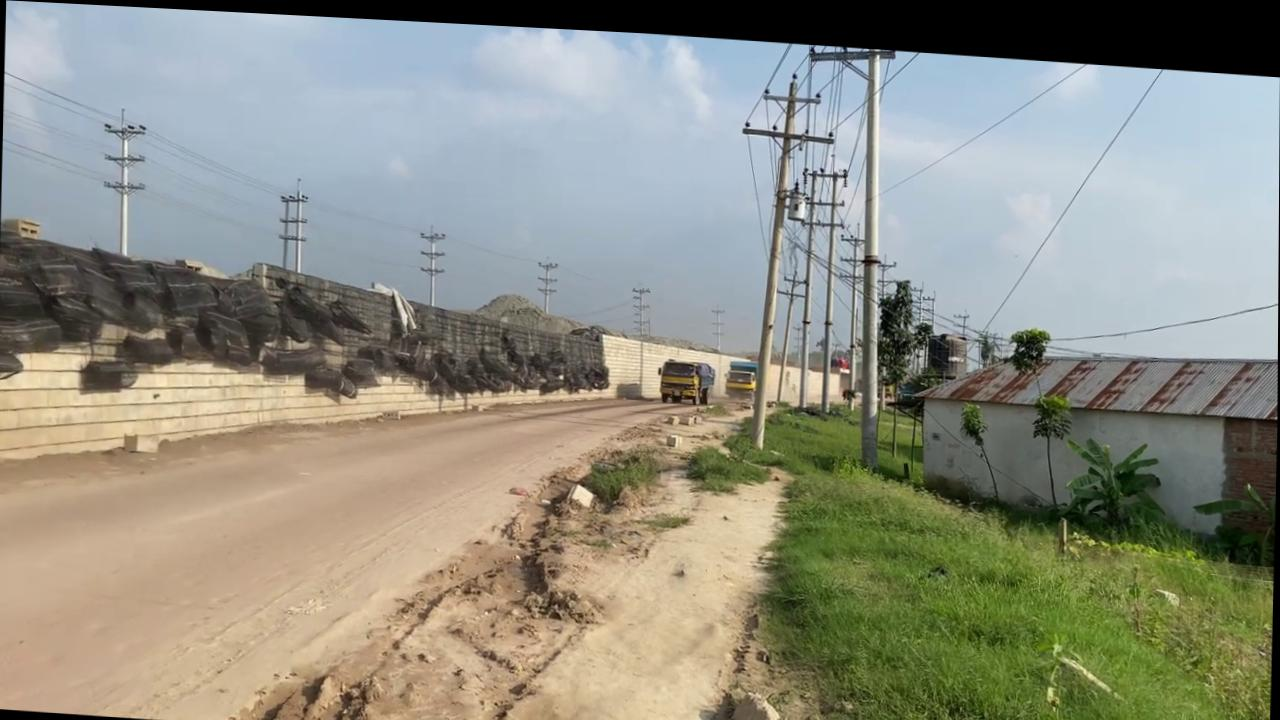Garbage: (0, 223, 616, 413)
Muddy road: (0, 341, 758, 720)
Obstacle: (565, 475, 595, 504)
Pole: (735, 61, 824, 445), (856, 42, 888, 462)
Traffic-sign: (1062, 422, 1166, 521), (1030, 379, 1073, 497), (1008, 314, 1051, 365)
Tree: (657, 350, 716, 399), (724, 350, 758, 387)
